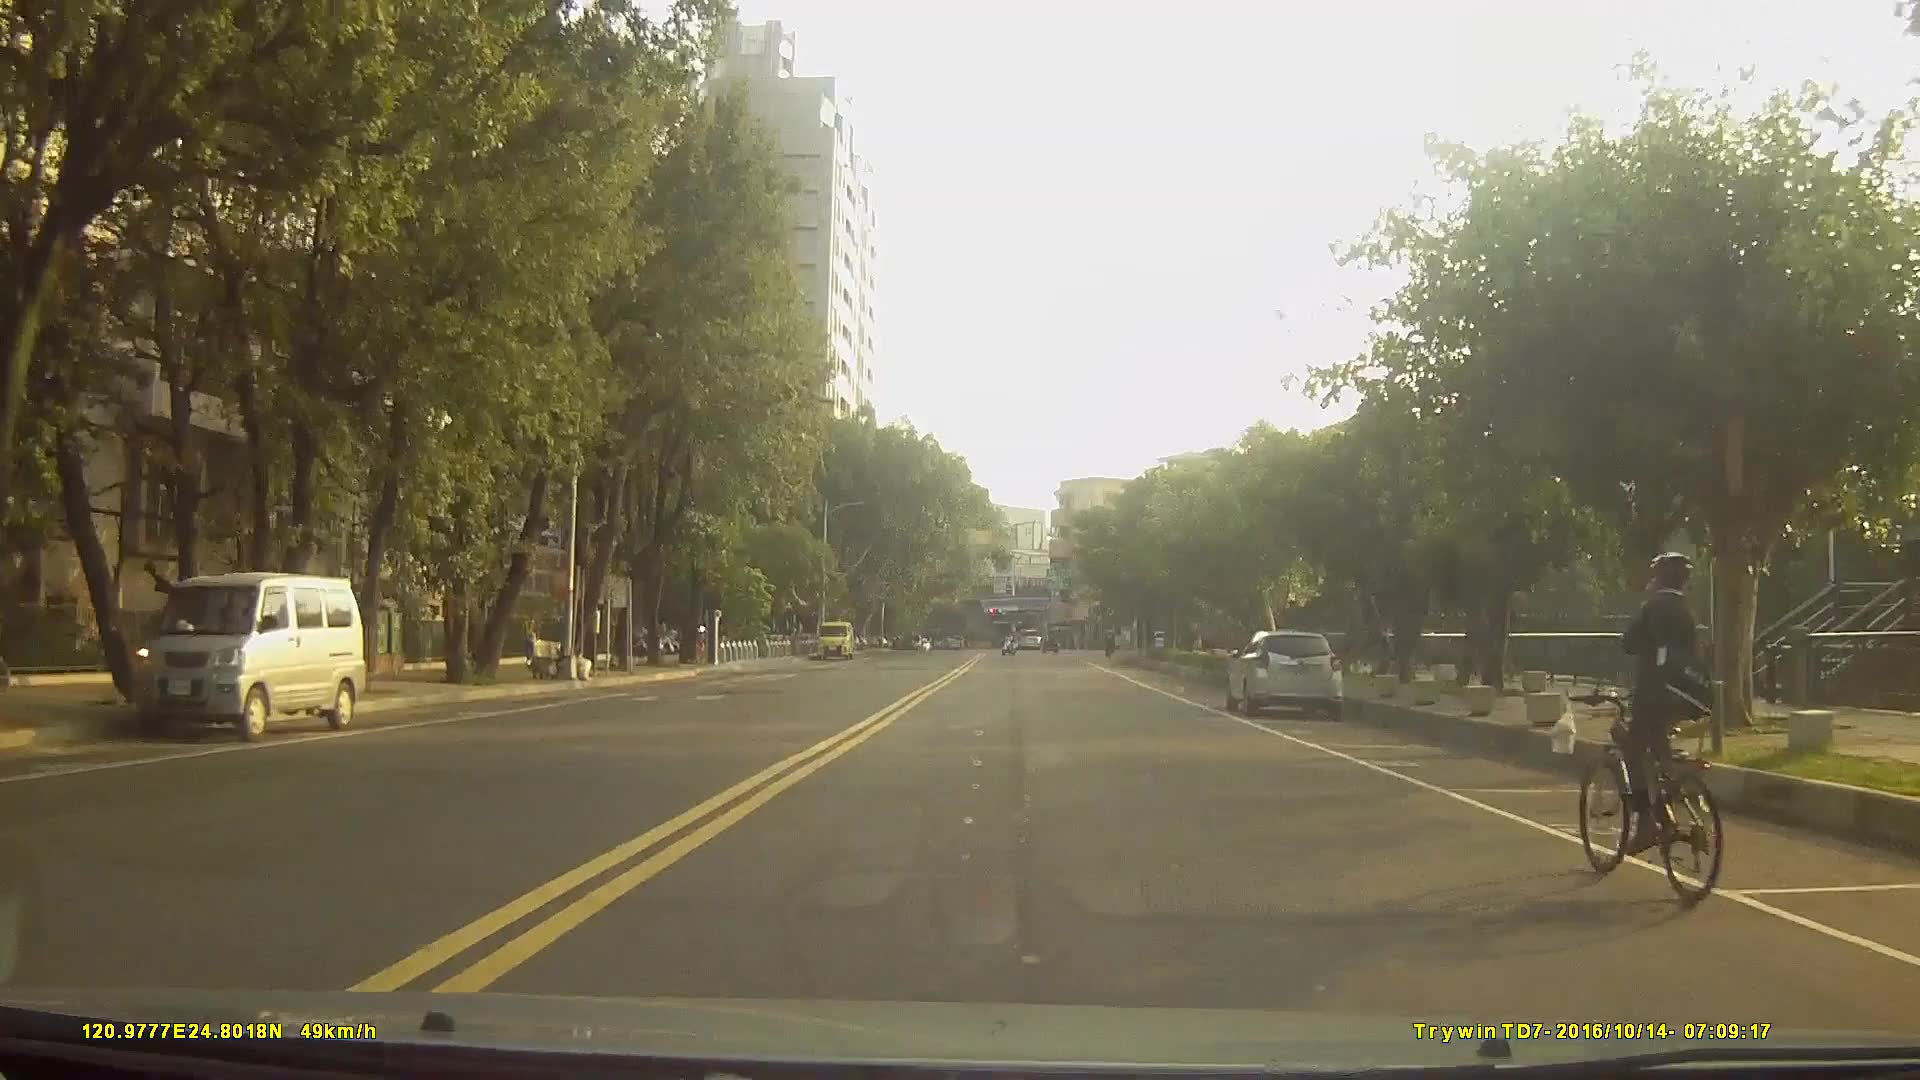rider: (1576, 550, 1730, 912)
vehicle: (131, 571, 370, 745), (1224, 625, 1347, 716), (1017, 624, 1044, 649)
